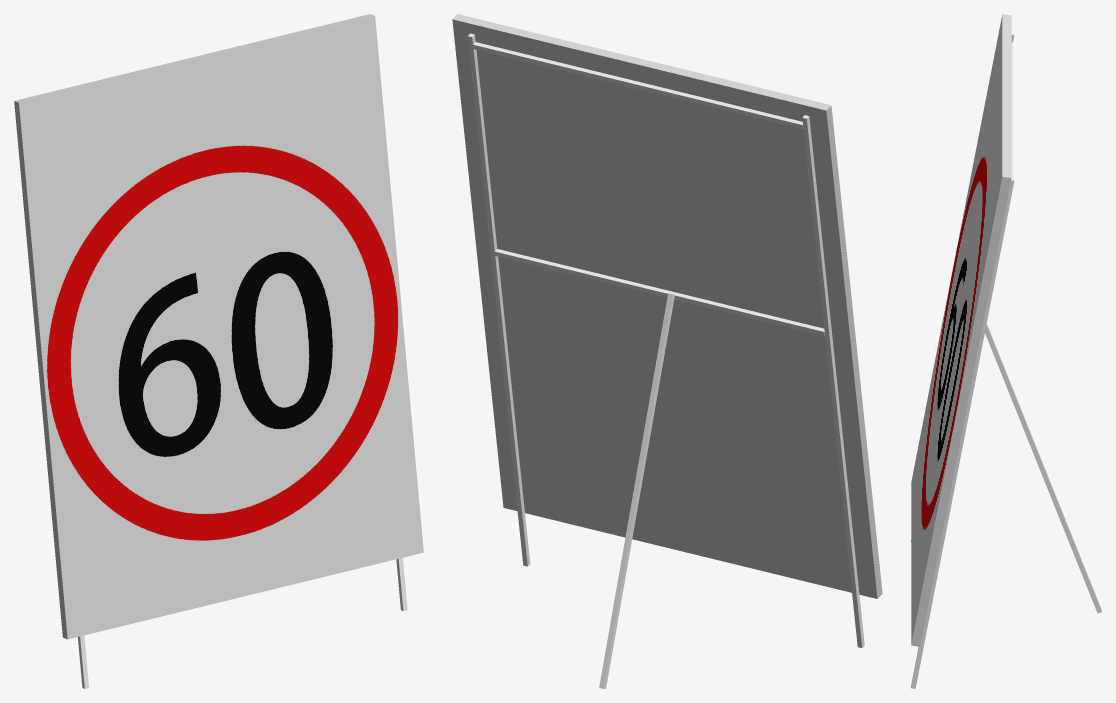
3 views of the same model, side by side, from view 1: azimuth 30°, elevation 25°; view 2: azimuth 150°, elevation 25°; view 3: azimuth 270°, elevation 25° (orthographic). The views are drawn at different scales.
Visible parts, largest first — view 1: 立方体-材质.3, 立方体-材质.5; view 2: 立方体-材质.5, 立方体.4, 立方体.3, 立方体.7, 立方体.5, 立方体.6; view 3: 立方体-材质.3, 立方体-材质.5, 立方体.3, 立方体.7.
Boxes of the visible parts, left/top/right/bottom form: 立方体-材质.3: left=19, top=16, right=423, bottom=639; 立方体-材质.5: left=14, top=14, right=374, bottom=639; 立方体-材质.5: left=452, top=14, right=882, bottom=598; 立方体.4: left=802, top=115, right=864, bottom=647; 立方体.3: left=468, top=33, right=530, bottom=566; 立方体.7: left=599, top=293, right=674, bottom=688; 立方体.5: left=469, top=42, right=803, bottom=129; 立方体.6: left=491, top=249, right=824, bottom=336; 立方体-材质.3: left=911, top=15, right=1002, bottom=643; 立方体-材质.5: left=911, top=14, right=1011, bottom=646; 立方体.3: left=911, top=178, right=1014, bottom=688; 立方体.7: left=985, top=323, right=1101, bottom=613.
Size of the model in its own units: 5.71 by 8.56 by 2.83.
3 materials, 1 textured.
